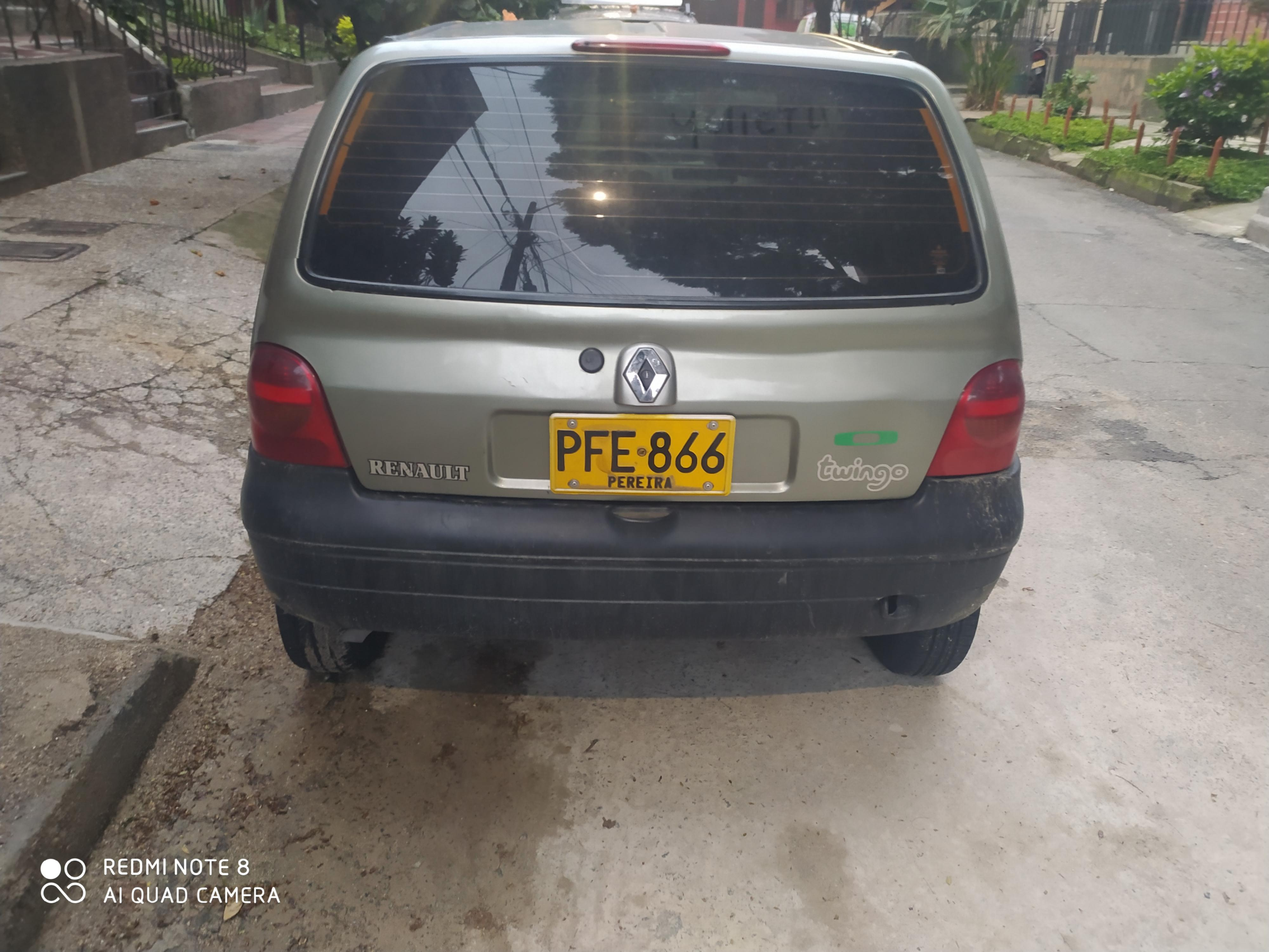placa: (537, 411, 749, 506)
